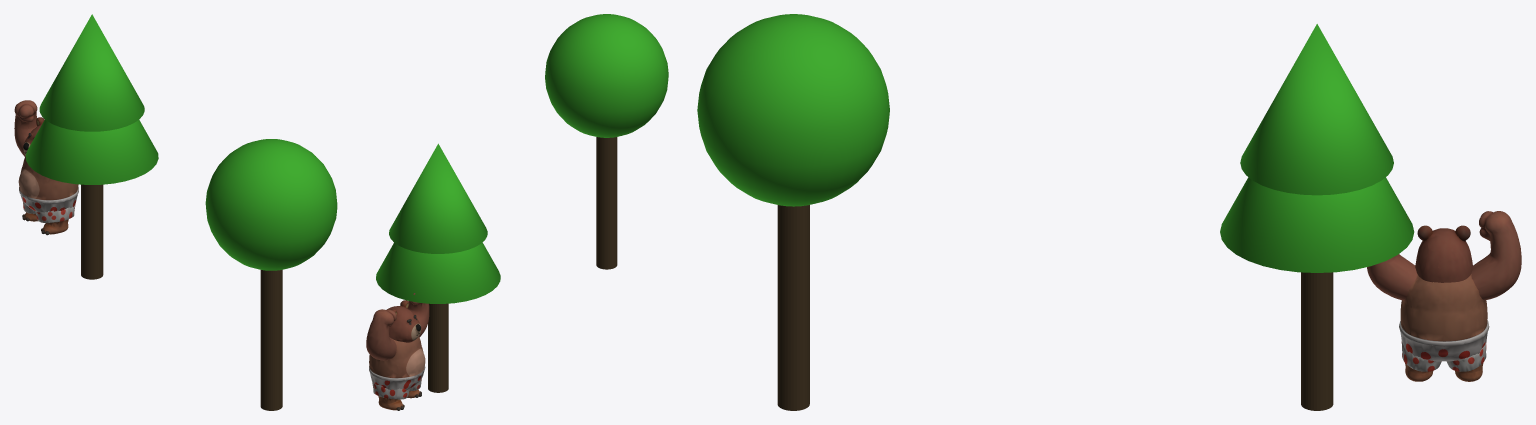
File: Tree1.glb
3 renders of one model, left to right at view 1: azimuth 30°, elevation 25°; view 2: azimuth 150°, elevation 25°; view 3: azimuth 270°, elevation 25°, orthographic. The views are drawn at different scales.
Parts seen in each view (by area): view 1: Tree2, Tree1, torso_geom, right arm_geom, left leg_geom; view 2: Tree2, Tree1, torso_geom, right arm_geom, head_geom, right leg_geom, left arm_geom; view 3: Tree2, Tree1, torso_geom, right arm_geom, head_geom, left arm_geom, right leg_geom, left leg_geom.
Part boxes in pixels (box(x1,y1,x2,y2)): Tree2: box(205, 139, 337, 410); Tree1: box(25, 14, 158, 279); torso_geom: box(18, 156, 78, 212); right arm_geom: box(14, 100, 37, 156); left leg_geom: box(35, 205, 75, 235); Tree2: box(545, 14, 668, 269); Tree1: box(376, 143, 500, 392); torso_geom: box(369, 337, 425, 389); right arm_geom: box(366, 309, 396, 360); head_geom: box(386, 300, 421, 342); right leg_geom: box(372, 383, 409, 410); left arm_geom: box(408, 293, 429, 337); Tree2: box(697, 14, 889, 410); Tree1: box(1220, 24, 1414, 410); torso_geom: box(1399, 273, 1489, 361); right arm_geom: box(1471, 211, 1521, 300); head_geom: box(1415, 225, 1472, 282); left arm_geom: box(1367, 217, 1416, 300); right leg_geom: box(1446, 340, 1486, 381); left leg_geom: box(1401, 341, 1441, 381).
Size of the model in its own units: 3.76 by 8.14 by 15.94.
9 materials, 6 textured.
